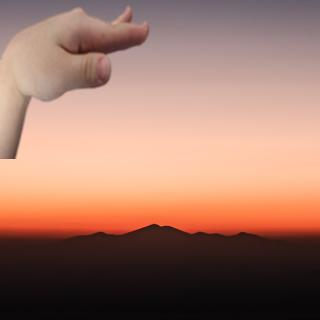Wait: (0, 0, 153, 107)
